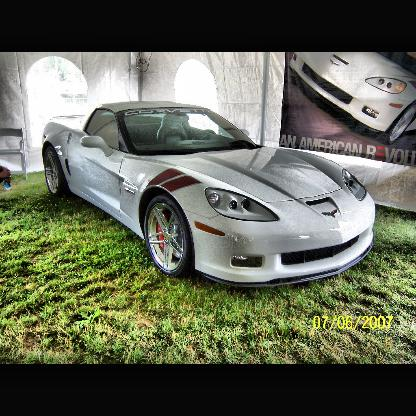Chevrolet Corvette Ron Fellows Edition Z06 2007: (42, 101, 379, 292)
